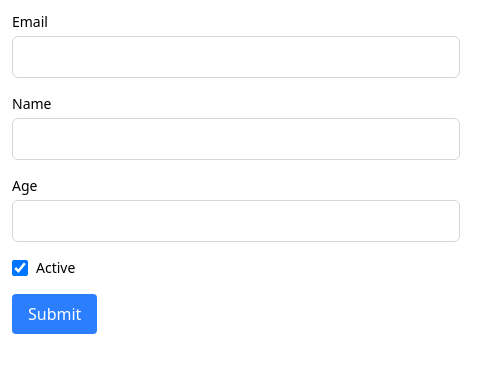
Test: Integration Tests › Form Validation Flow: Form Input → Zod Validation → Error Display › should display validation errors for invalid age
// Enter negative age
Type "test@example.com" into the field labelled "Email". click: (236, 57)
box: [12,36,460,78]
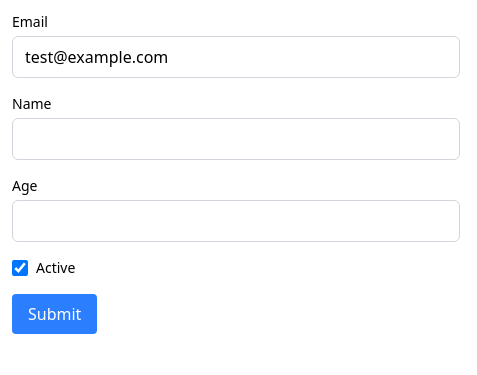
Type "Test User" into the field labelled "Name". click: (236, 139)
box: [12,118,460,160]
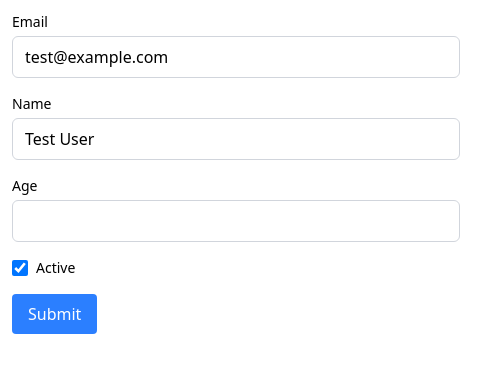
Type "-5" into the number field labelled "Age". click: (236, 221)
box: [12,200,460,242]
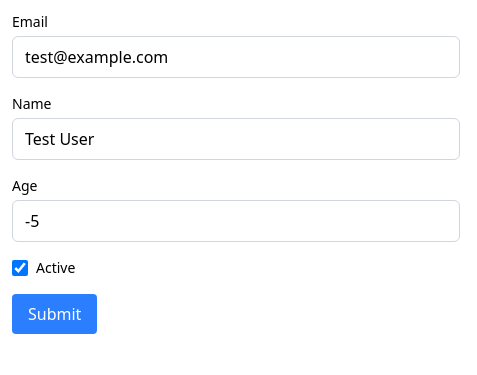
Click the button "Submit". click: (55, 314)
box: [12,294,97,334]
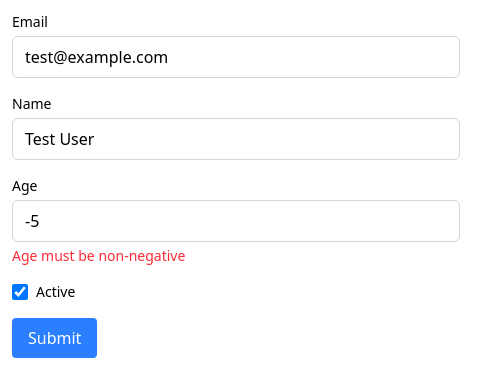
Check: the text "Age must be non-negative" is shown, box [12,246,185,265]
